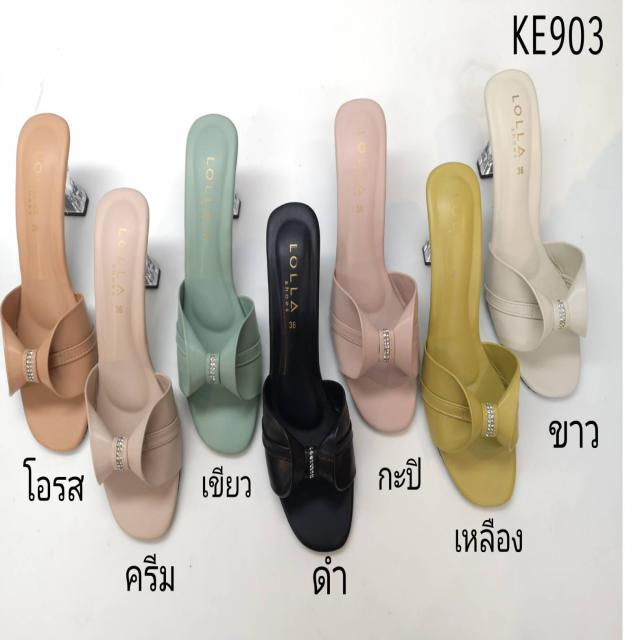black: (263, 204, 356, 556)
cream: (96, 189, 183, 542)
green: (176, 110, 259, 448)
kapi: (327, 100, 422, 435)
orot: (10, 111, 96, 441)
white: (485, 74, 588, 399)
yellow: (420, 160, 518, 511)
